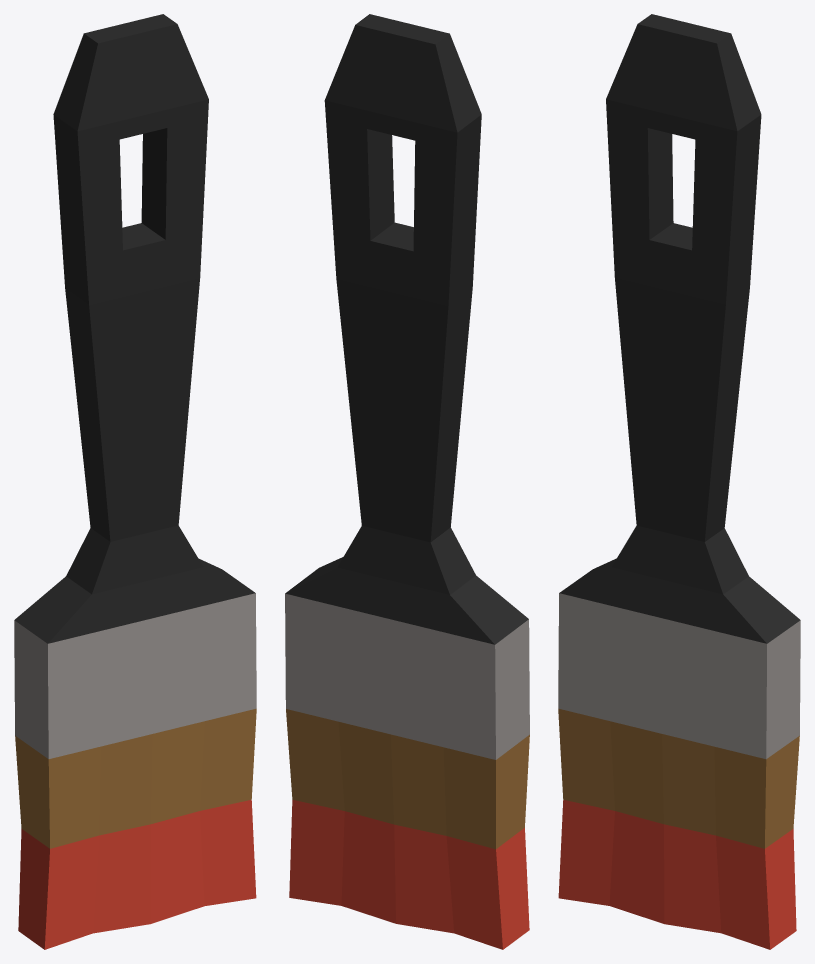
Rendered from tools-brush-straight-medium-paint.glb.
3 renders of one model, left to right at view 1: azimuth 30°, elevation 25°; view 2: azimuth 150°, elevation 25°; view 3: azimuth 330°, elevation 25°, orthographic.
Parts seen in each view (by area): view 1: brush-straight-medium-paint; view 2: brush-straight-medium-paint; view 3: brush-straight-medium-paint.
Boxes of the visible parts, box(x1,y1,x2,y2) form: brush-straight-medium-paint: box(14, 14, 256, 949); brush-straight-medium-paint: box(285, 14, 529, 949); brush-straight-medium-paint: box(558, 14, 800, 949).
Bounding box in the file's own units: 0.061 × 0.2429 × 0.0172.
